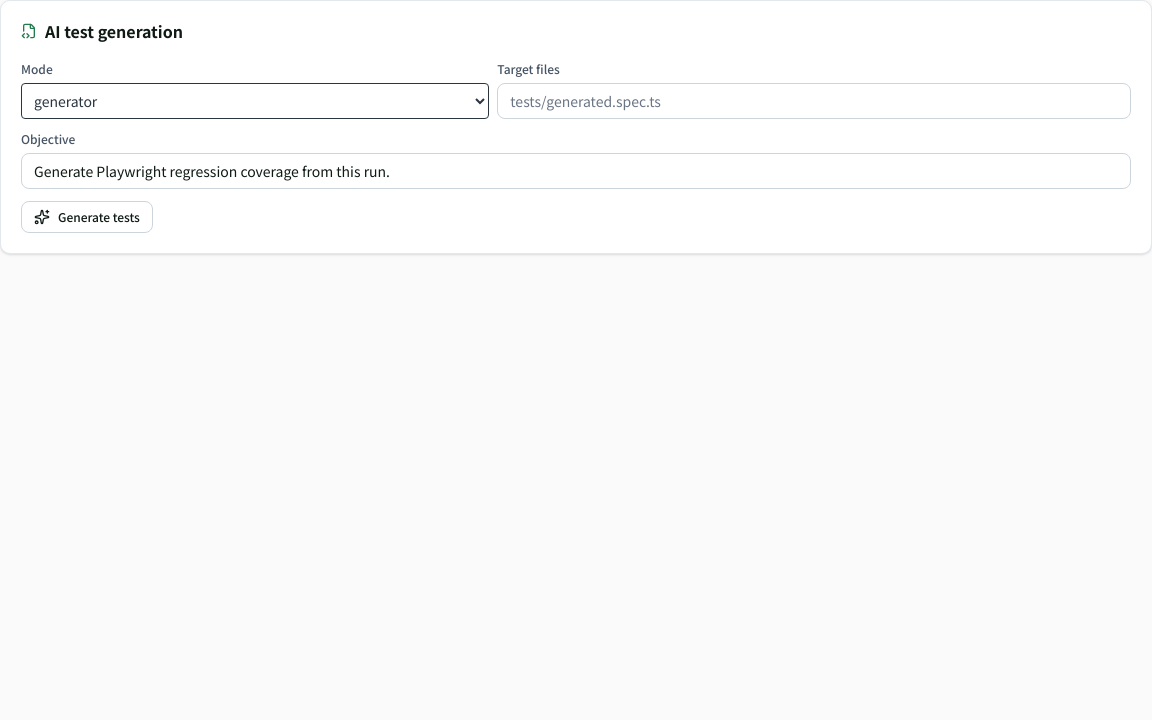
AiTestGenerationPanel › mode objective targetFiles を送信し、生成 diff を repair review に流す
Select "healer" in the dropdown labelled "Mode" at (255, 101), box left=21, top=83, right=489, bottom=119
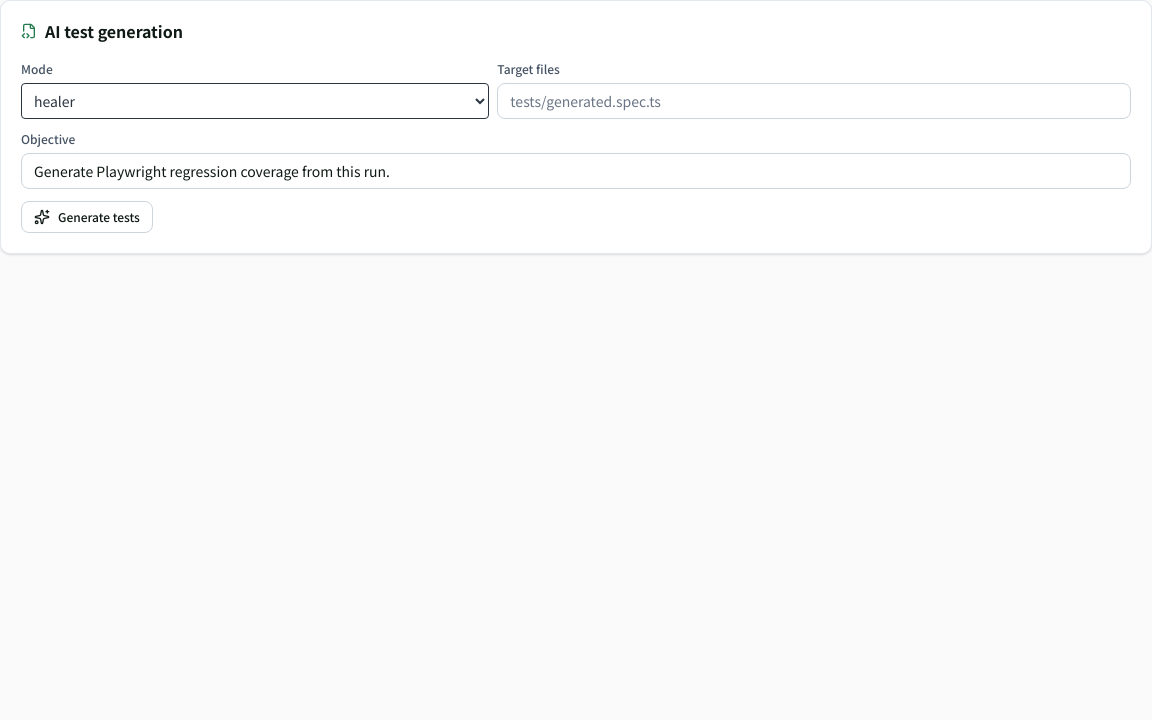
Replace the text in the field labelled "Objective" with "Generate checkout regression." at (576, 171), box left=21, top=153, right=1131, bottom=189
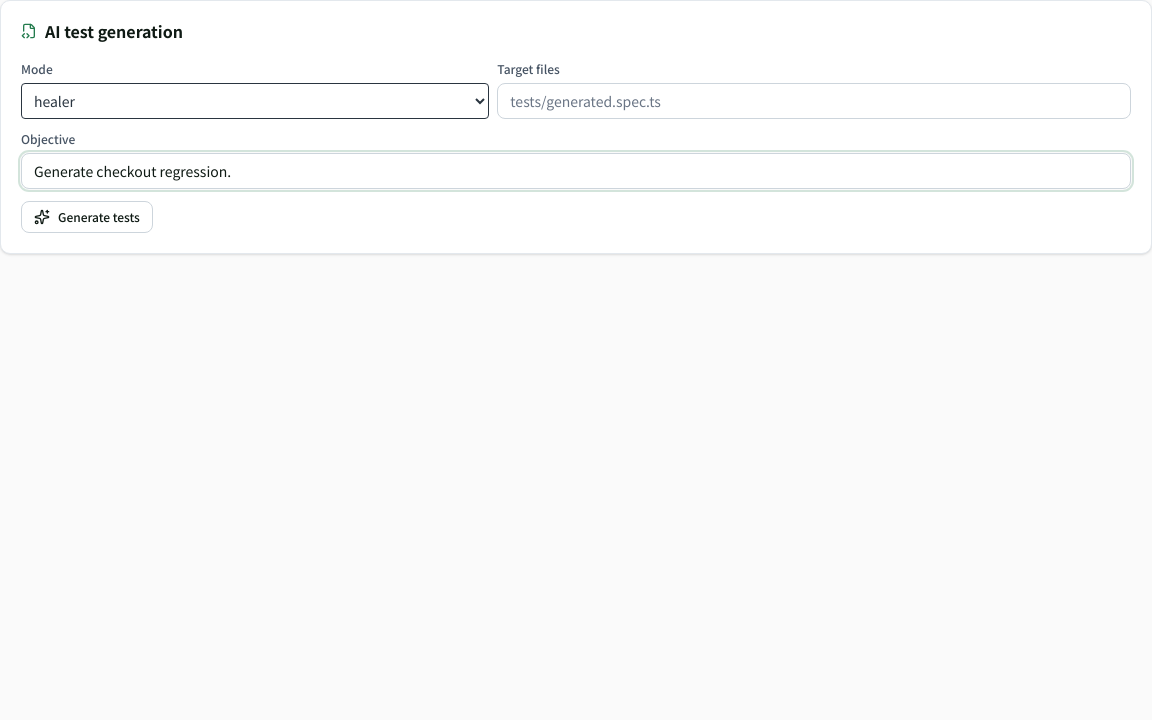
Type "tests/generated.spec.ts, tests/checkout.spec.ts" into the field labelled "Target files".
click(814, 101); type("tests/generated.spec.ts, tests/checkout.spec.ts")  # box left=497, top=83, right=1131, bottom=119
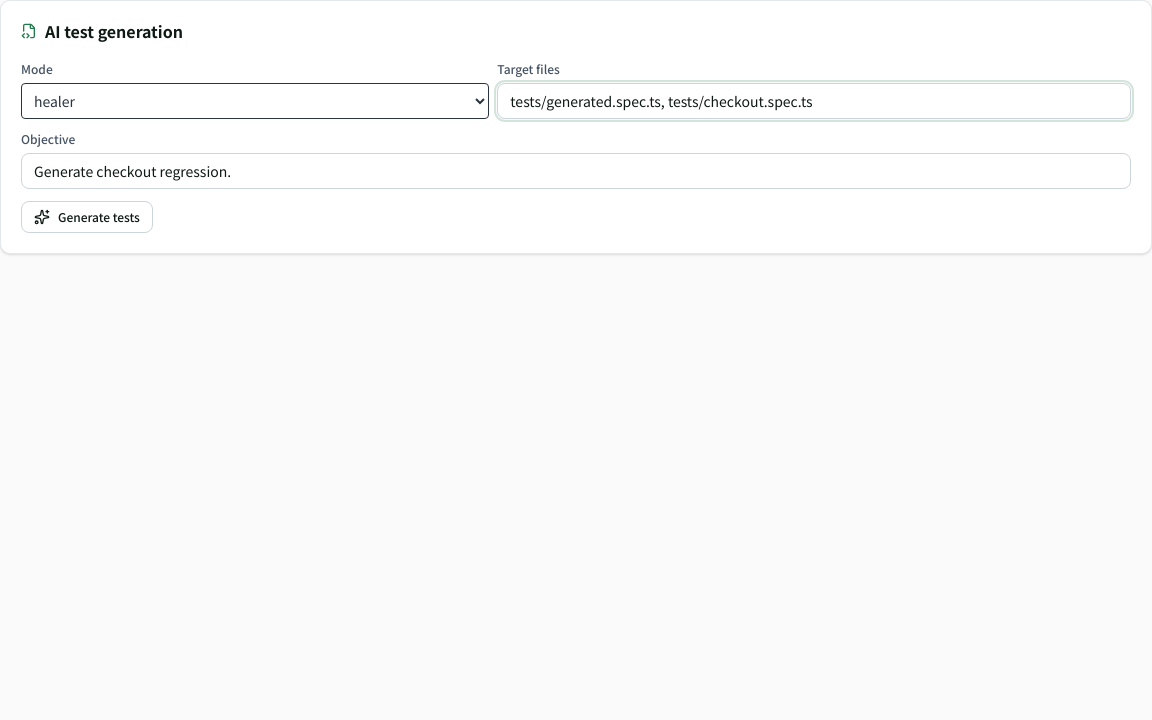
Click the button "Generate tests".
click(87, 217)  # box left=21, top=201, right=153, bottom=233
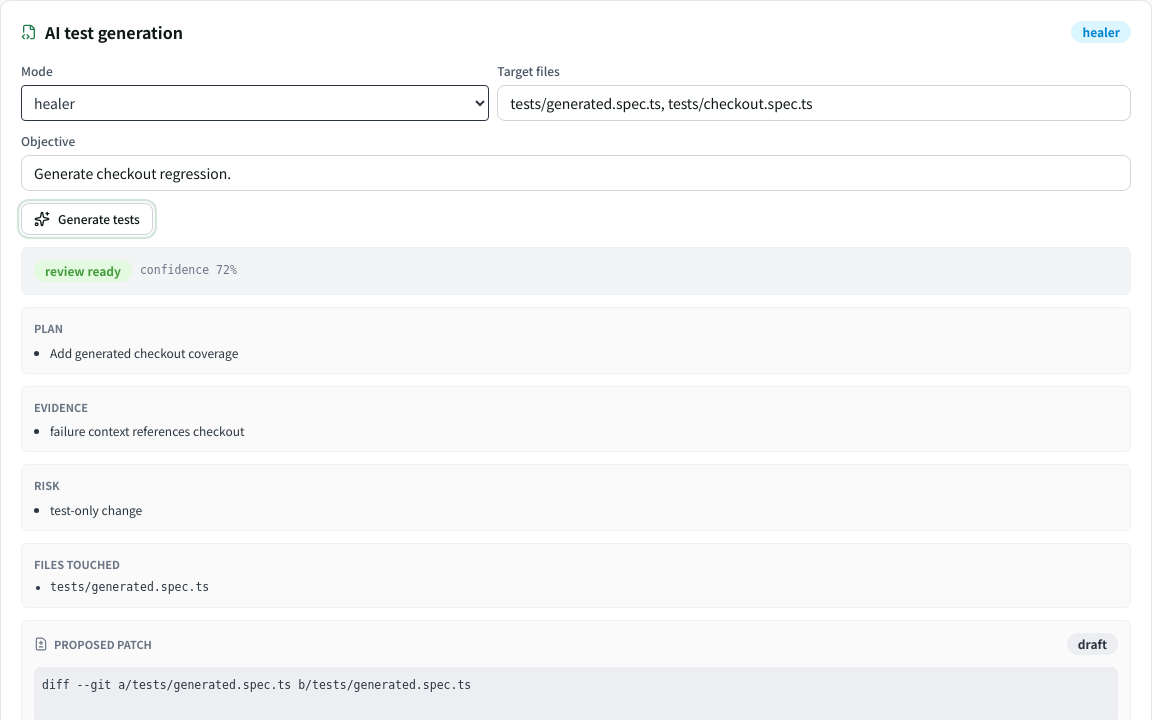
Expected: the text "review ready" is shown, left=34, top=260, right=132, bottom=282
Expected: the list item "Add generated checkout coverage" is shown, left=50, top=344, right=238, bottom=360
Expected: the list item "tests/generated.spec.ts" is shown, left=50, top=580, right=209, bottom=594
